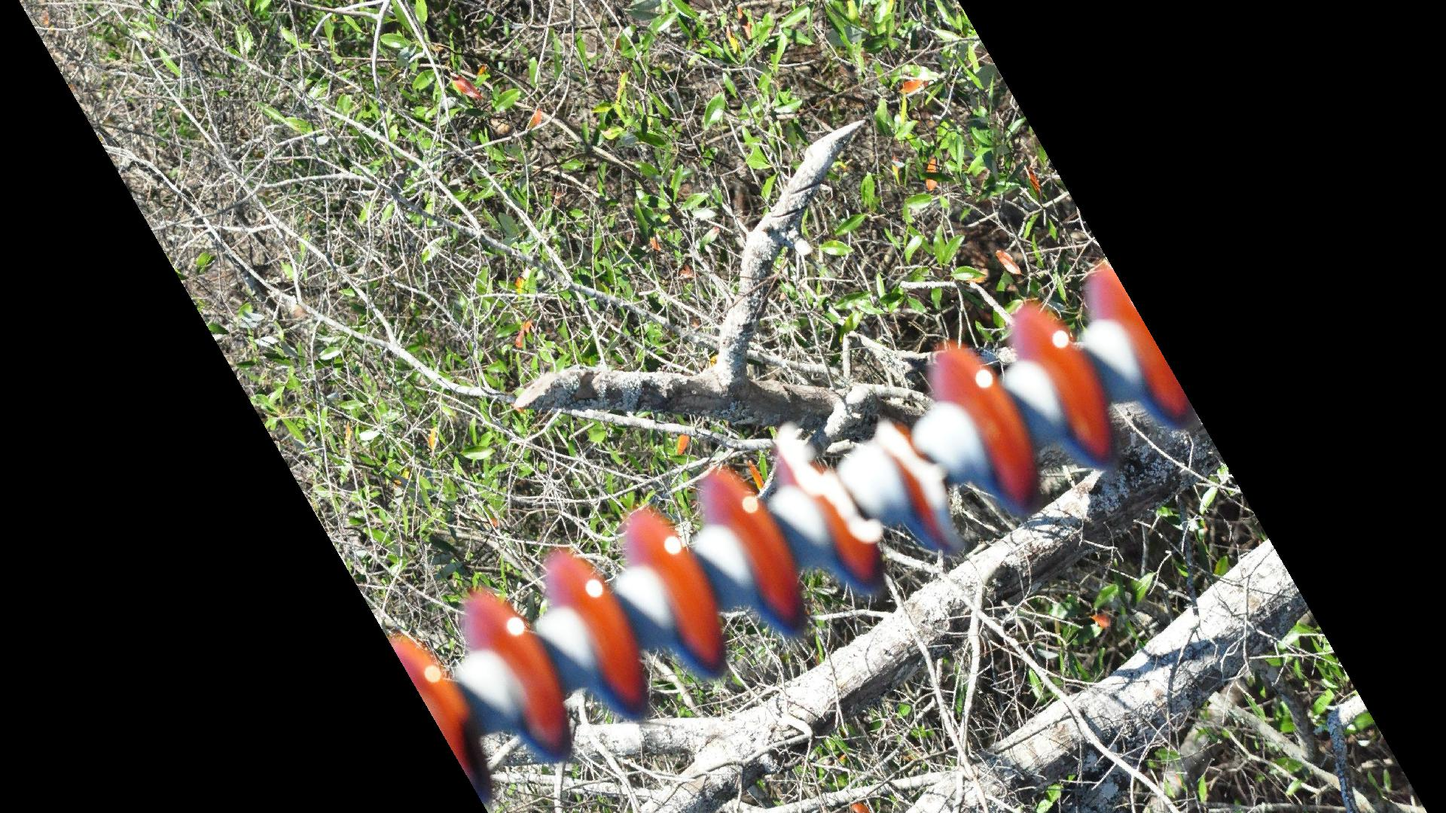insulator: (388, 251, 1204, 798)
insulator_breakage: (769, 414, 886, 553), (871, 410, 972, 559)
